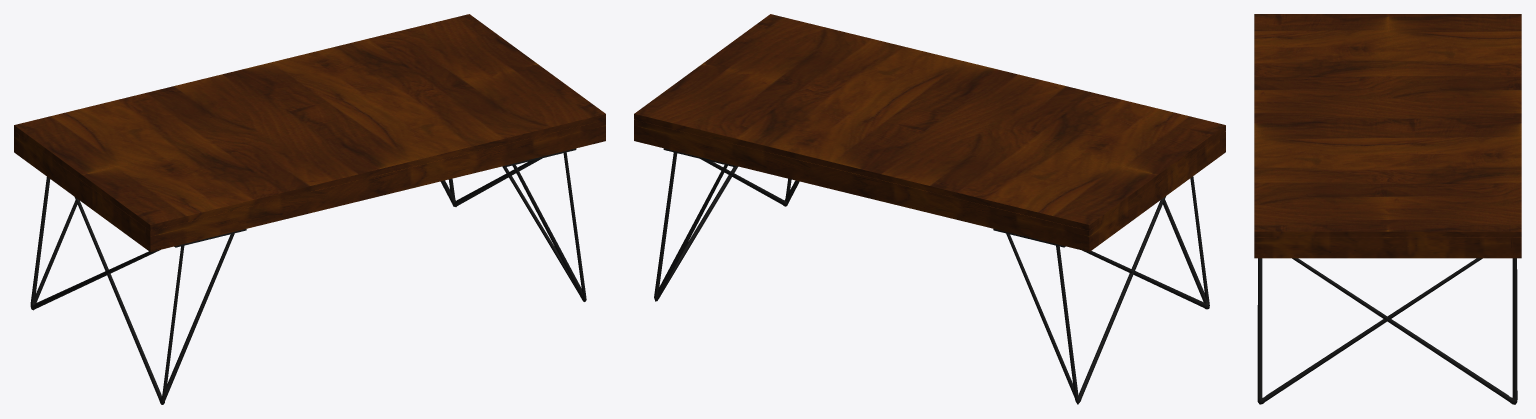
Rendered from coffee-table-1.FBX.
3 renders of one model, left to right at view 1: azimuth 30°, elevation 25°; view 2: azimuth 150°, elevation 25°; view 3: azimuth 270°, elevation 25°, orthographic. The views are drawn at different scales.
Visible parts, largest first — view 1: FNTBCF12WL10057_001, FNTBCF12WL10057; view 2: FNTBCF12WL10057_001, FNTBCF12WL10057; view 3: FNTBCF12WL10057_001, FNTBCF12WL10057.
Part boxes in pixels (x1,y1,x2,y2): FNTBCF12WL10057_001: (14,14,605,252); FNTBCF12WL10057: (30,148,586,404); FNTBCF12WL10057_001: (634,14,1225,251); FNTBCF12WL10057: (654,148,1209,404); FNTBCF12WL10057_001: (1254,14,1521,258); FNTBCF12WL10057: (1257,258,1517,404).
Bounding box in the file's own units: 100 × 39.03 × 51.88.
